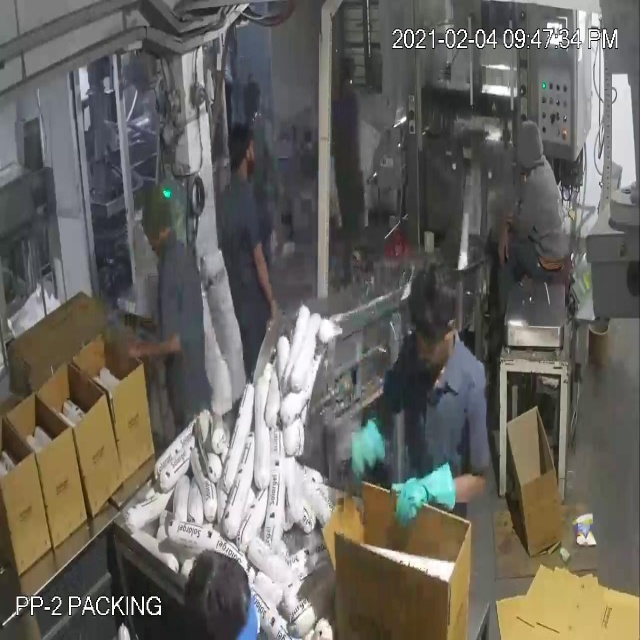Guantes: (390, 458, 466, 528), (346, 410, 389, 484)
Sin_guantes: (246, 230, 289, 326), (112, 323, 184, 364), (490, 198, 518, 282)
